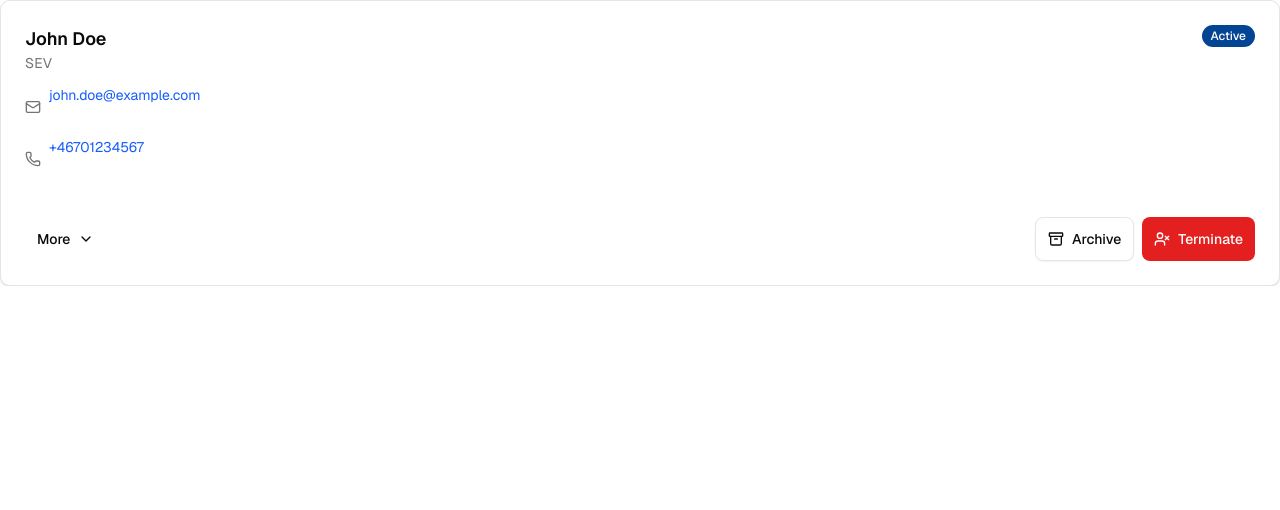
Scenario: EmployeeCard - Inline Editing Integration › AC3: Inline Editing Functionality Tests › should show edit controls when editable field is clicked
Click the button with aria-label "Expand details" at [66, 239], box [25, 217, 106, 261]
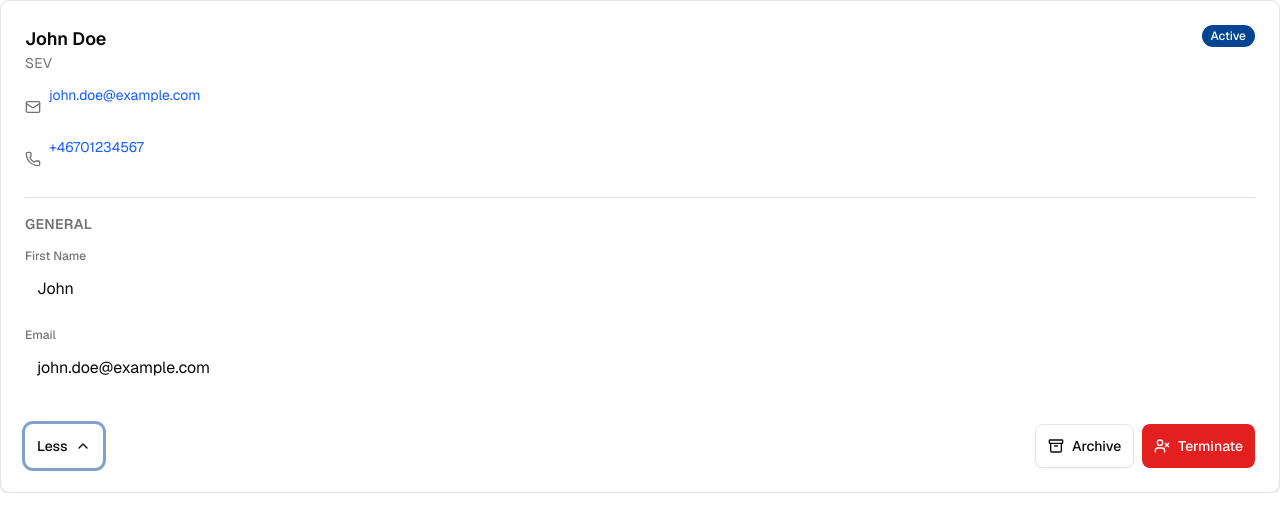
Check: the text "First Name" is shown, box [25, 248, 86, 264]
Click the cell "John" at [640, 288], box [25, 268, 1255, 309]
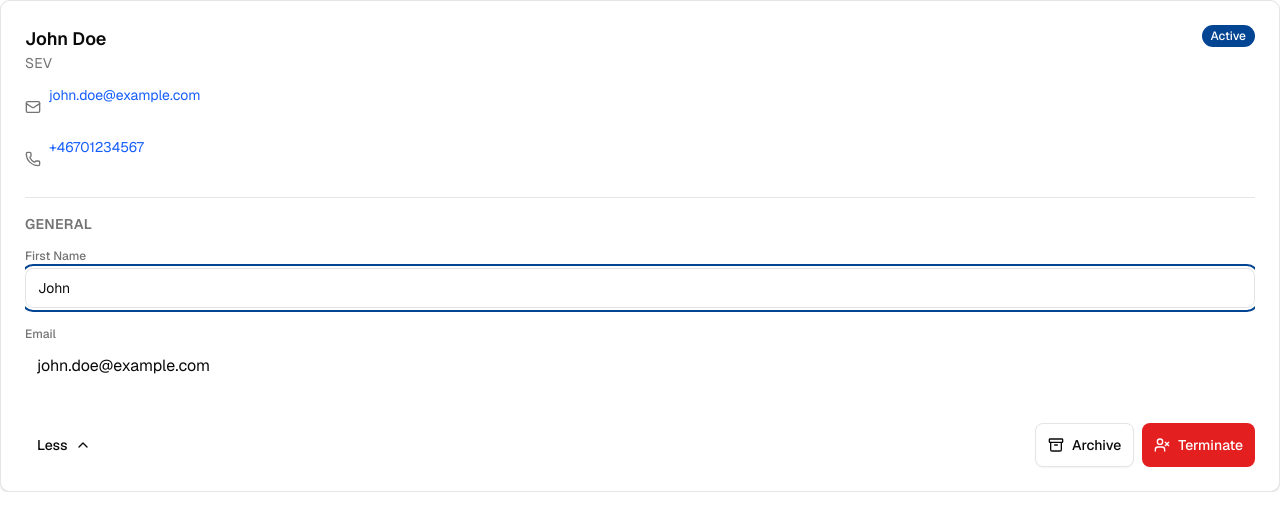
Check: the field showing "John" is shown, box [25, 268, 1255, 308]
